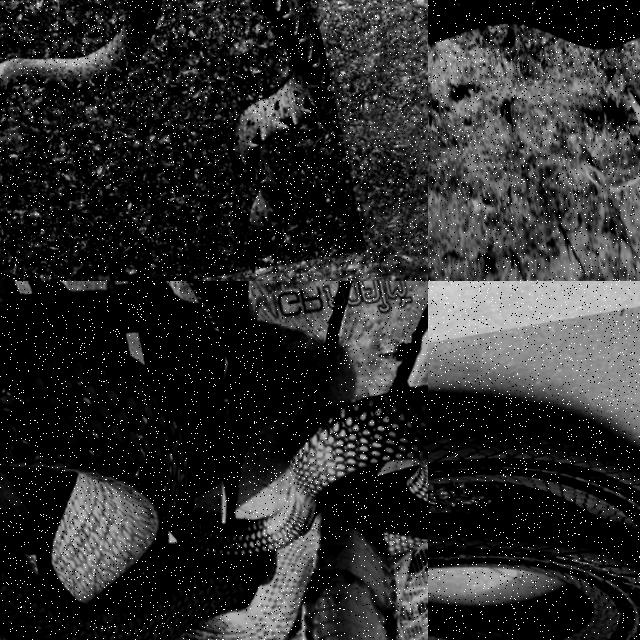Calliophis intestinalis: (428, 413, 639, 639)
Calloselasma rhodostoma: (231, 0, 329, 268)
Naja siamensis: (428, 0, 639, 47)
Ophiophagus hannah: (0, 322, 427, 639)
